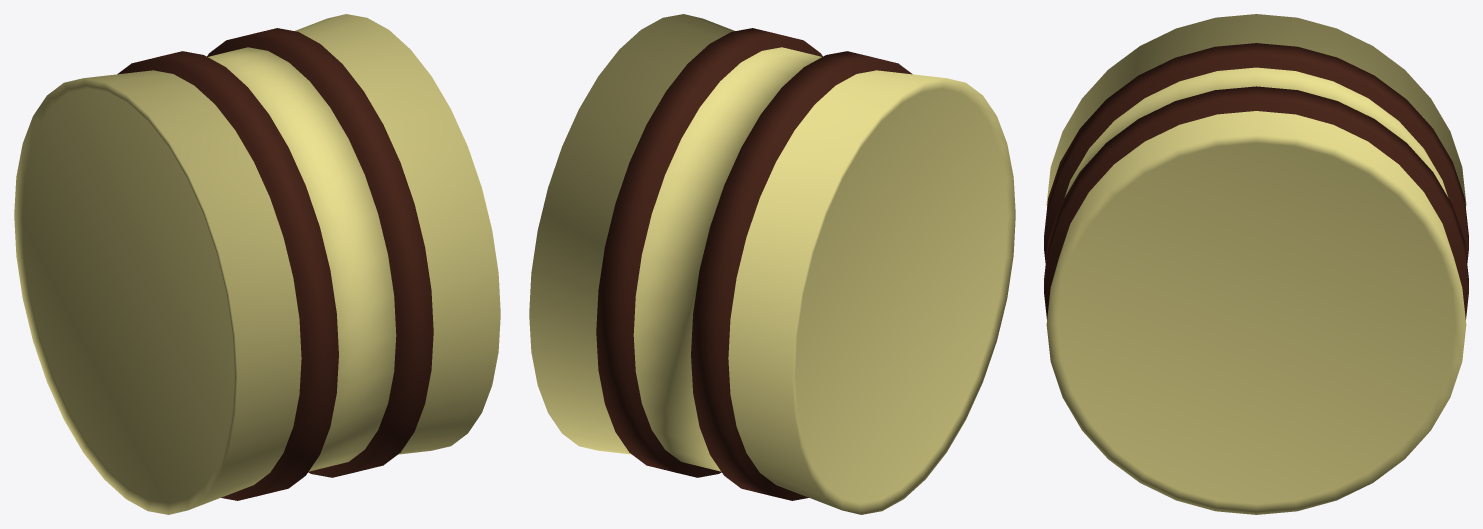
The model's file is HayBale.fbx.
3 views of the same model, side by side, from view 1: azimuth 30°, elevation 25°; view 2: azimuth 150°, elevation 25°; view 3: azimuth 270°, elevation 25° (orthographic). The views are drawn at different scales.
Visible parts, largest first — view 1: HayBale; view 2: HayBale; view 3: HayBale.
Boxes of the visible parts, x1,y1,x2,y2 form: HayBale: [14, 14, 500, 514]; HayBale: [529, 14, 1015, 514]; HayBale: [1044, 14, 1468, 514].
Bounding box in the file's own units: 392 × 583 × 583.
